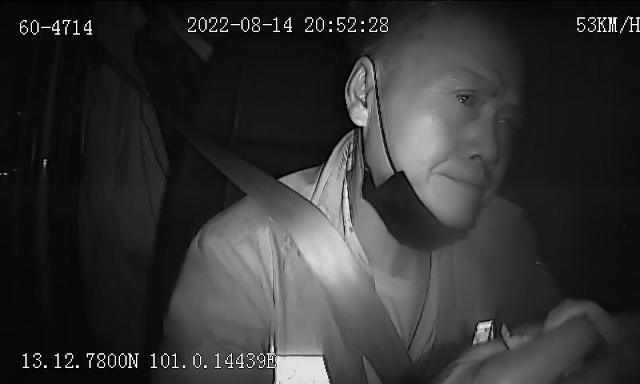SafeDriving: (448, 76, 482, 116)
Seatbelt: (196, 138, 422, 384)
